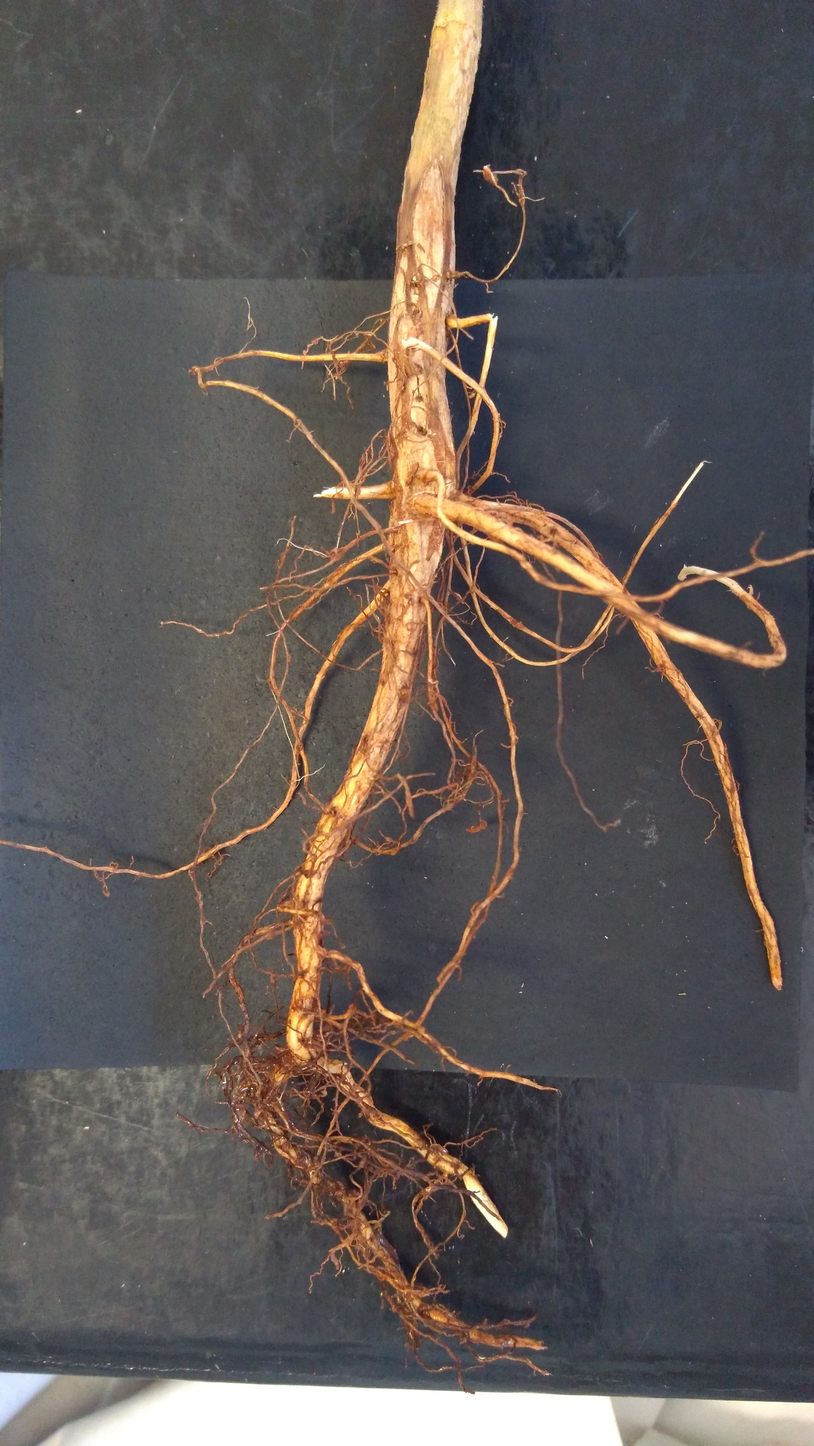nodule: (308, 1168, 324, 1185), (361, 1227, 373, 1240), (359, 1223, 365, 1231)
